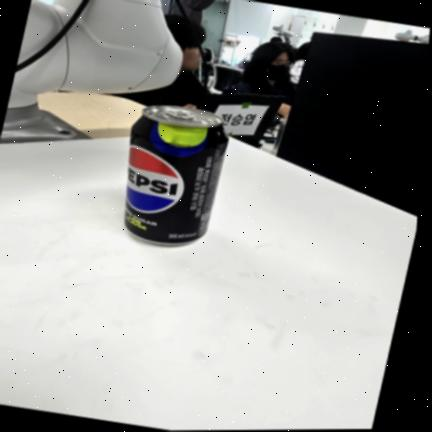can_pepsi_zero: (124, 106, 228, 244)
